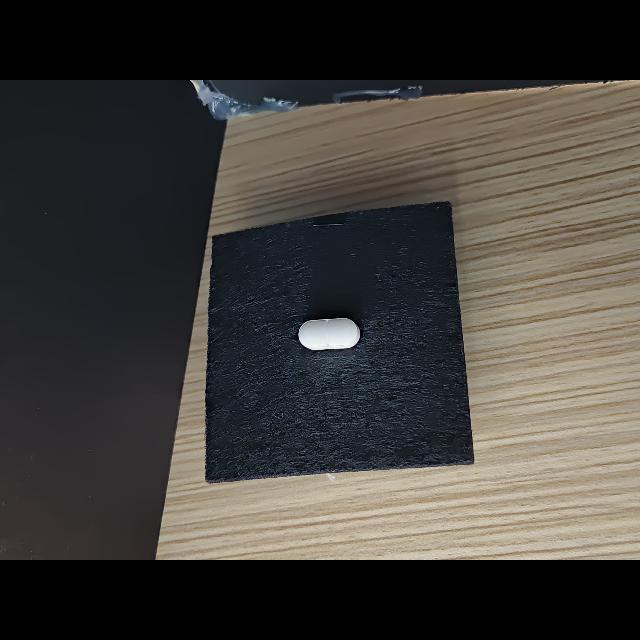Intact Pill: (298, 318, 360, 350)
